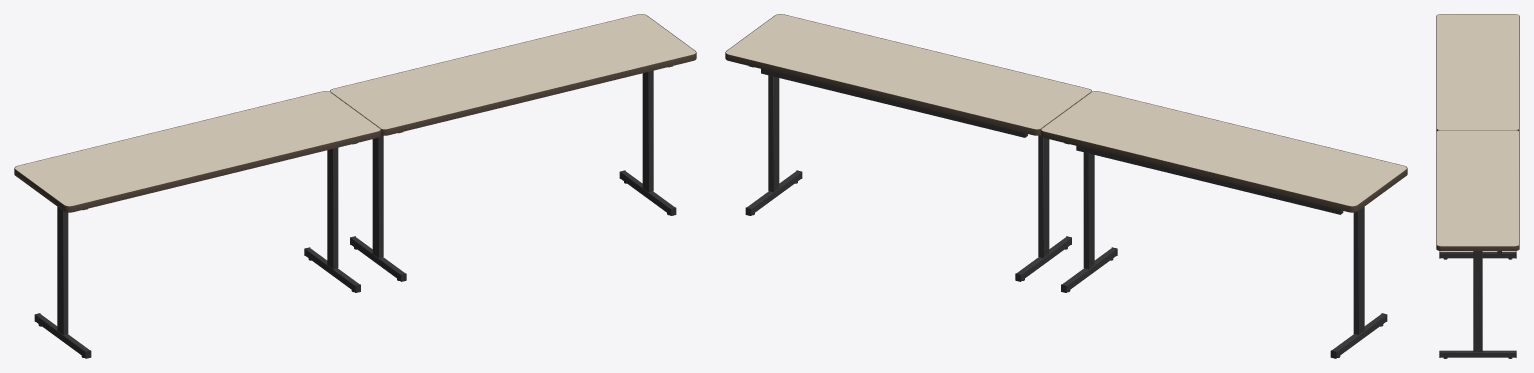
The model's file is Kit_TrainingTable_Row2.fbx.
3 renders of one model, left to right at view 1: azimuth 30°, elevation 25°; view 2: azimuth 150°, elevation 25°; view 3: azimuth 270°, elevation 25°, orthographic. The views are drawn at different scales.
Parts seen in each view (by area): view 1: Kit_TrainingTable_Row2_LOD0; view 2: Kit_TrainingTable_Row2_LOD0; view 3: Kit_TrainingTable_Row2_LOD0.
Part boxes in pixels (x1,y1,x2,y2): Kit_TrainingTable_Row2_LOD0: [14, 14, 696, 358]; Kit_TrainingTable_Row2_LOD0: [725, 14, 1407, 358]; Kit_TrainingTable_Row2_LOD0: [1436, 14, 1519, 358].
Size of what is drawn, in the model's own units: 3.05 by 0.737 by 0.463.
